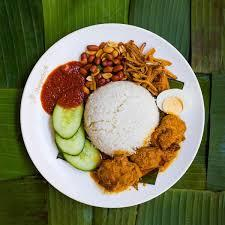Anchovies: (120, 40, 171, 98)
Boiled-Egg: (156, 88, 185, 117)
Cucumber: (52, 101, 103, 172)
Peanuts: (79, 42, 128, 93)
Rendang-Chicken: (90, 115, 187, 194)
Rice: (84, 82, 160, 159)
Sambal: (40, 61, 85, 116)
